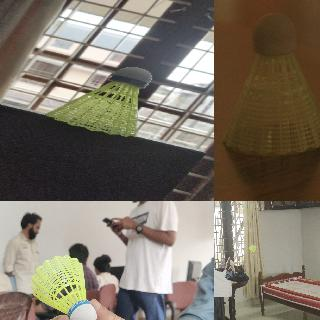shuttlecock: (222, 12, 319, 154), (44, 67, 151, 137), (31, 255, 98, 319), (248, 246, 256, 254)
